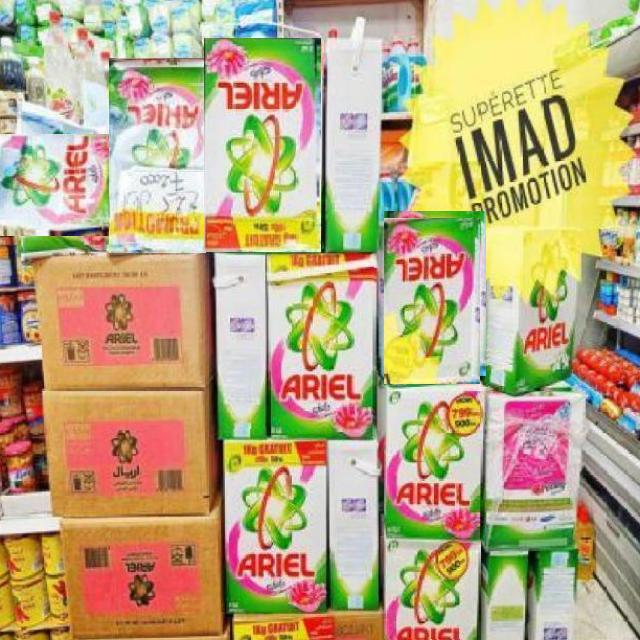Detergent: (204, 38, 321, 252), (221, 429, 332, 612), (265, 255, 374, 438), (109, 58, 206, 253), (384, 210, 486, 376), (384, 218, 480, 384), (488, 220, 577, 389), (385, 386, 482, 540), (0, 134, 120, 236), (380, 537, 475, 640)
